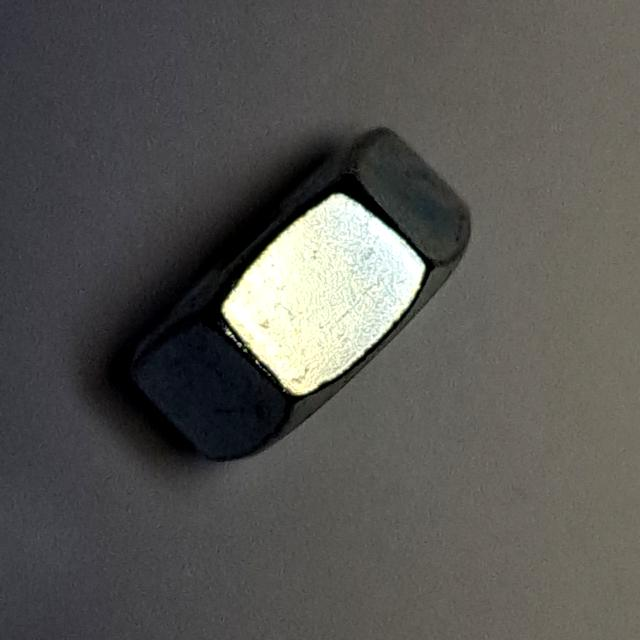Side_Excellent: (100, 107, 502, 489)
